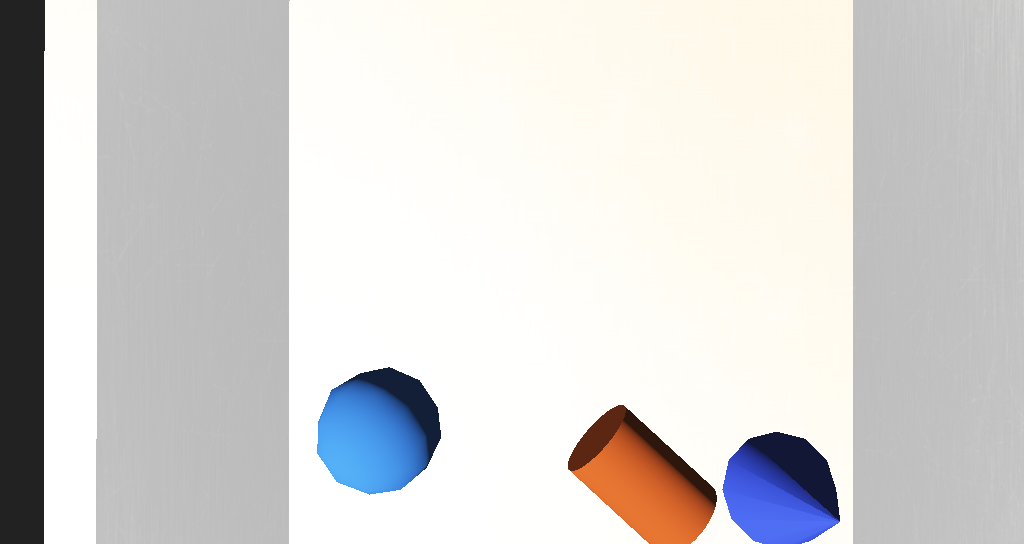cone: (499, 315, 579, 372)
cylinder: (589, 324, 664, 382)
sphere: (371, 301, 438, 348)
